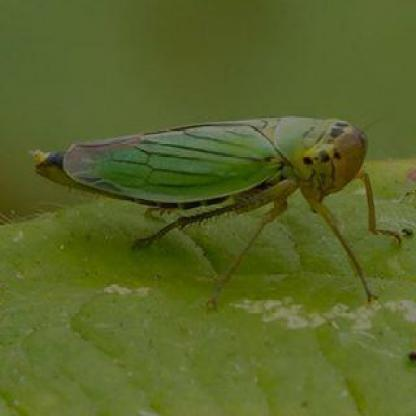rice-bug: (30, 113, 373, 213)
